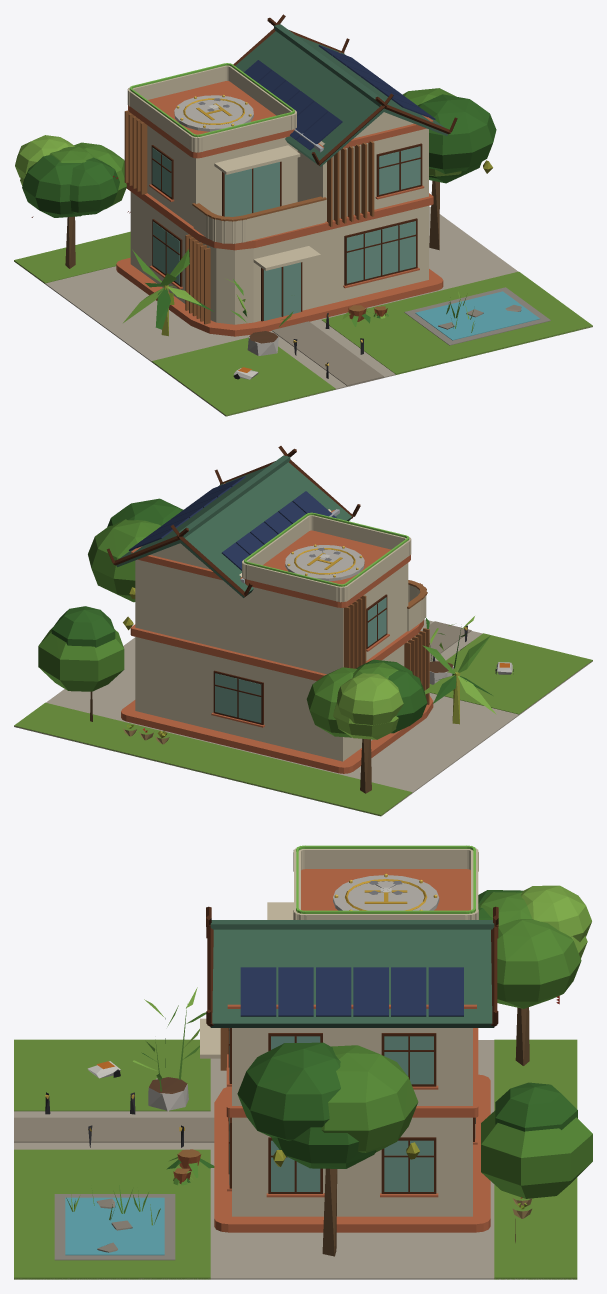
File: home_1.glb
The picture shows the model from 3 angles, top to bottom: view 1: azimuth 30°, elevation 25°; view 2: azimuth 150°, elevation 25°; view 3: azimuth 270°, elevation 25°; orthographic projection. The views are drawn at different scales.
Visible parts, largest first — view 1: body, windows; view 2: body, windows; view 3: body, windows.
Part boxes in pixels (bbox=[...]): body: bbox=[14, 14, 592, 416]; windows: bbox=[129, 63, 362, 366]; body: bbox=[14, 446, 592, 816]; windows: bbox=[244, 512, 467, 630]; body: bbox=[14, 848, 592, 1279]; windows: bbox=[45, 845, 475, 1131].
Bounding box in the file's own units: 16.72 × 8.99 × 16.34.
